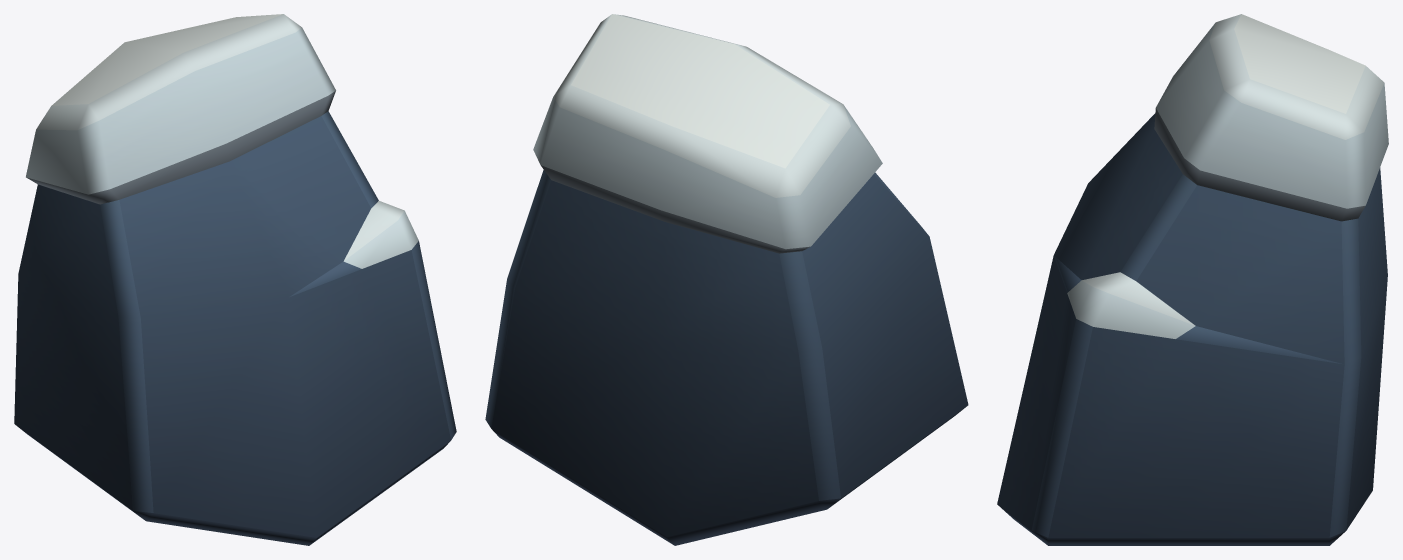
Rendered from rock_snow_017.fbx.
3 views of the same model, side by side, from view 1: azimuth 30°, elevation 25°; view 2: azimuth 150°, elevation 25°; view 3: azimuth 270°, elevation 25° (orthographic). The views are drawn at different scales.
Parts seen in each view (by area): view 1: rock_snow_017; view 2: rock_snow_017; view 3: rock_snow_017.
Part boxes in pixels (<box>): rock_snow_017: <box>14,14,456,545</box>; rock_snow_017: <box>485,14,968,545</box>; rock_snow_017: <box>997,14,1388,545</box>.
Bounding box in the file's own units: 180 × 231 × 170.
1 material, 1 textured.
